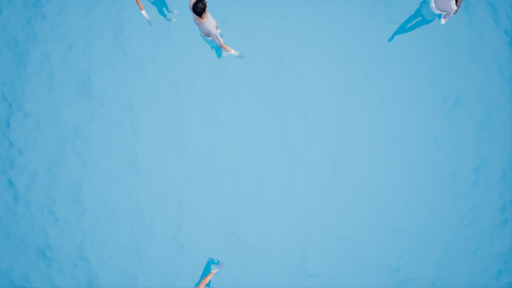person: (183, 1, 249, 69), (386, 1, 474, 41), (177, 240, 231, 288), (134, 1, 179, 30)
